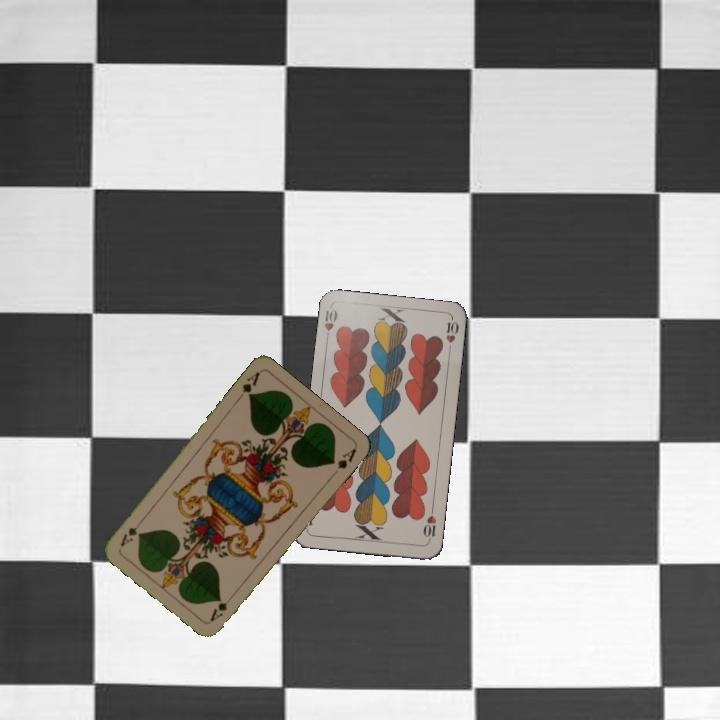GA: (206, 590, 237, 624), (233, 368, 262, 403)
H10: (419, 504, 439, 545), (320, 305, 340, 344)
